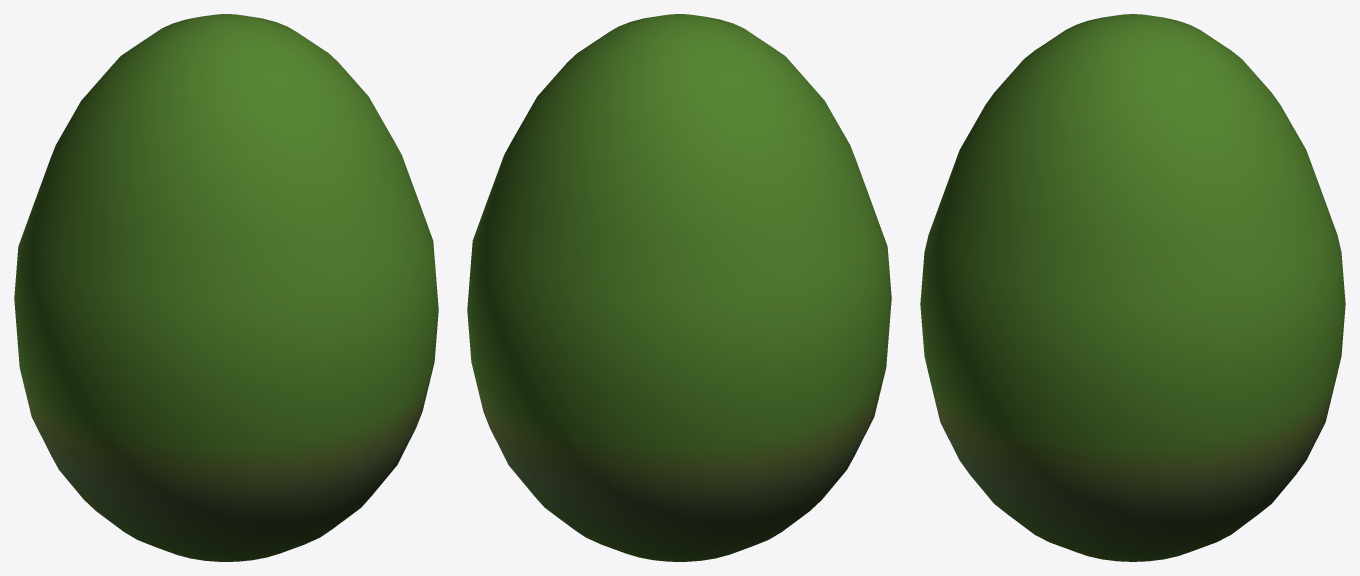
File: egg06.glb
The picture shows the model from 3 angles, left to right: view 1: azimuth 30°, elevation 25°; view 2: azimuth 150°, elevation 25°; view 3: azimuth 270°, elevation 25°; orthographic projection.
Parts seen in each view (by area): view 1: Sphere001; view 2: Sphere001; view 3: Sphere001.
Boxes of the visible parts, x1,y1,x2,y2 form: Sphere001: (14,14,438,561); Sphere001: (467,14,891,561); Sphere001: (920,14,1345,561).
Bounding box in the file's own units: 0.7237 × 0.9744 × 0.7237.
1 material, 1 textured.
